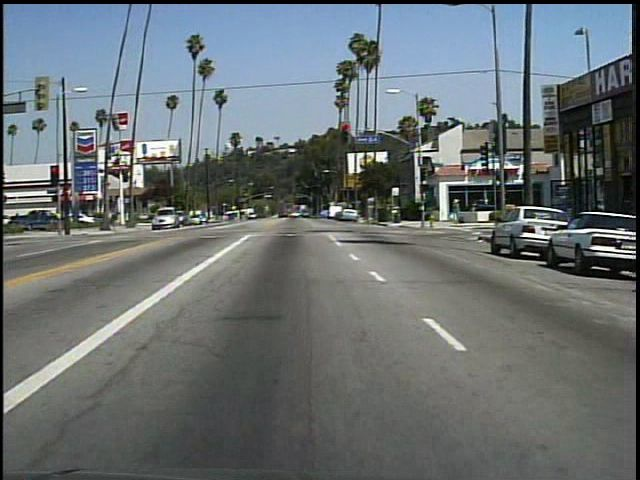person: (447, 195, 463, 226)
